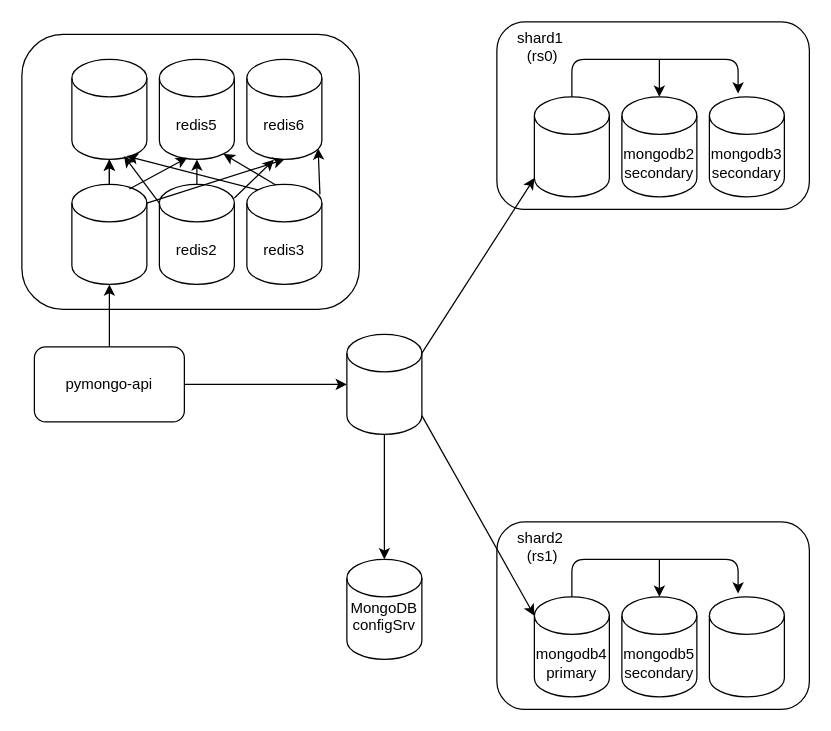
This 831x731 diagram has some shape labels left out. The shapes that lost their labels are listed below. From the top down, each one's centre as x and y in pixels, then its label:
the point at 109,108: redis4
the point at 571,146: mongodb1 primary
the point at 109,233: redis1
the point at 384,383: MongoDB mongos_router
the point at 746,646: mongodb6 secondary
